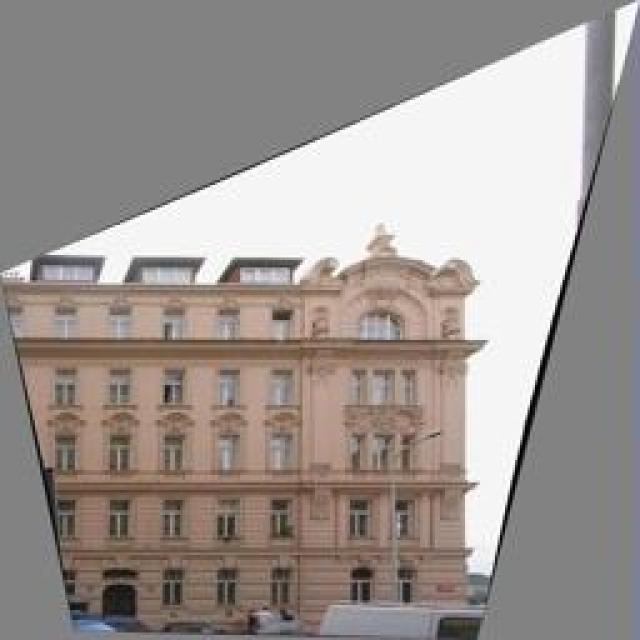building: (0, 222, 475, 640)
